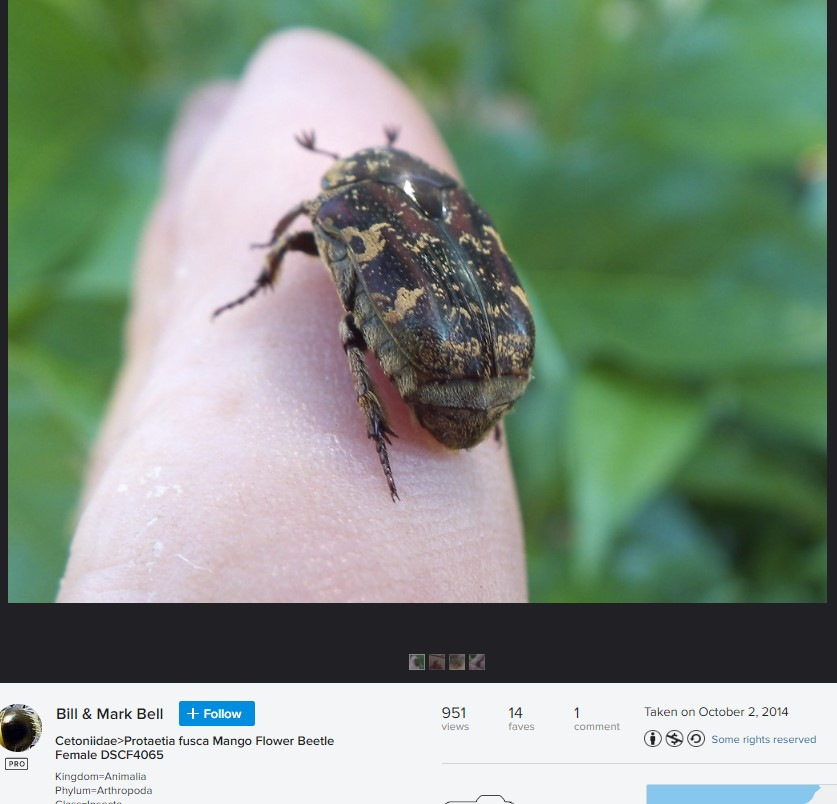Protaetia_fusca: (210, 124, 544, 511)
